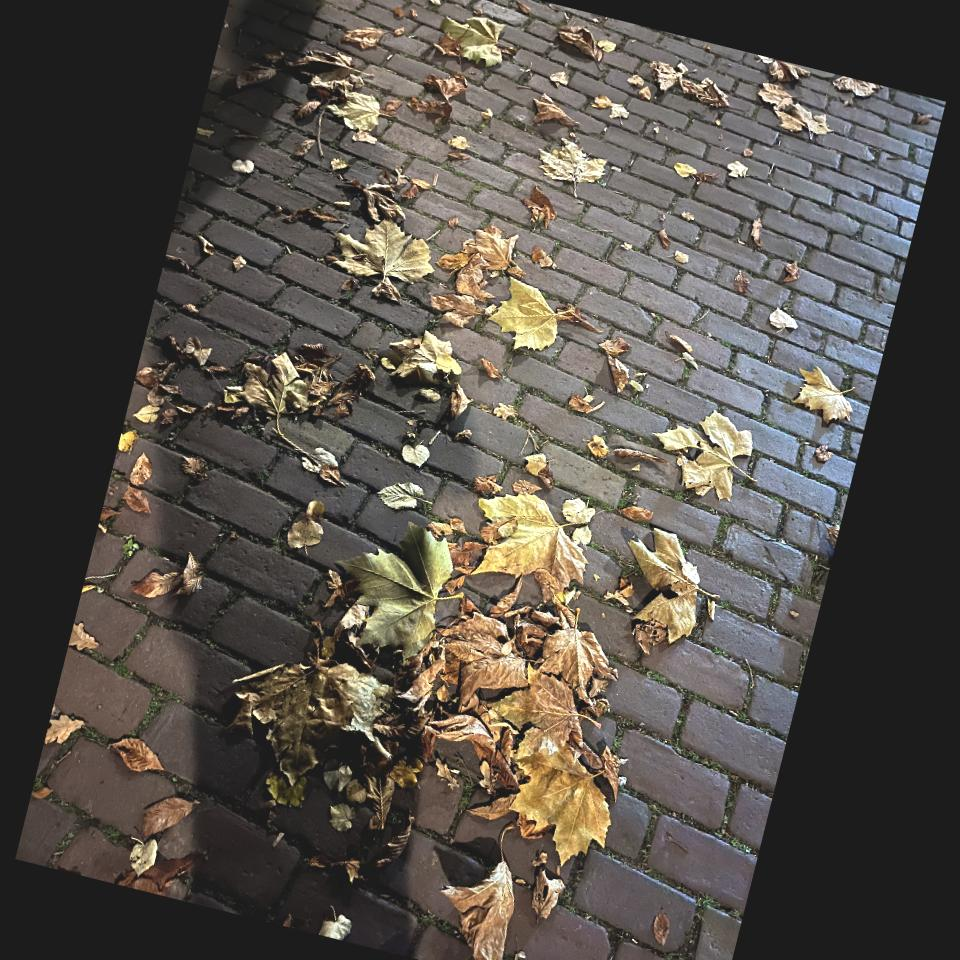weed: (104, 526, 147, 566)
